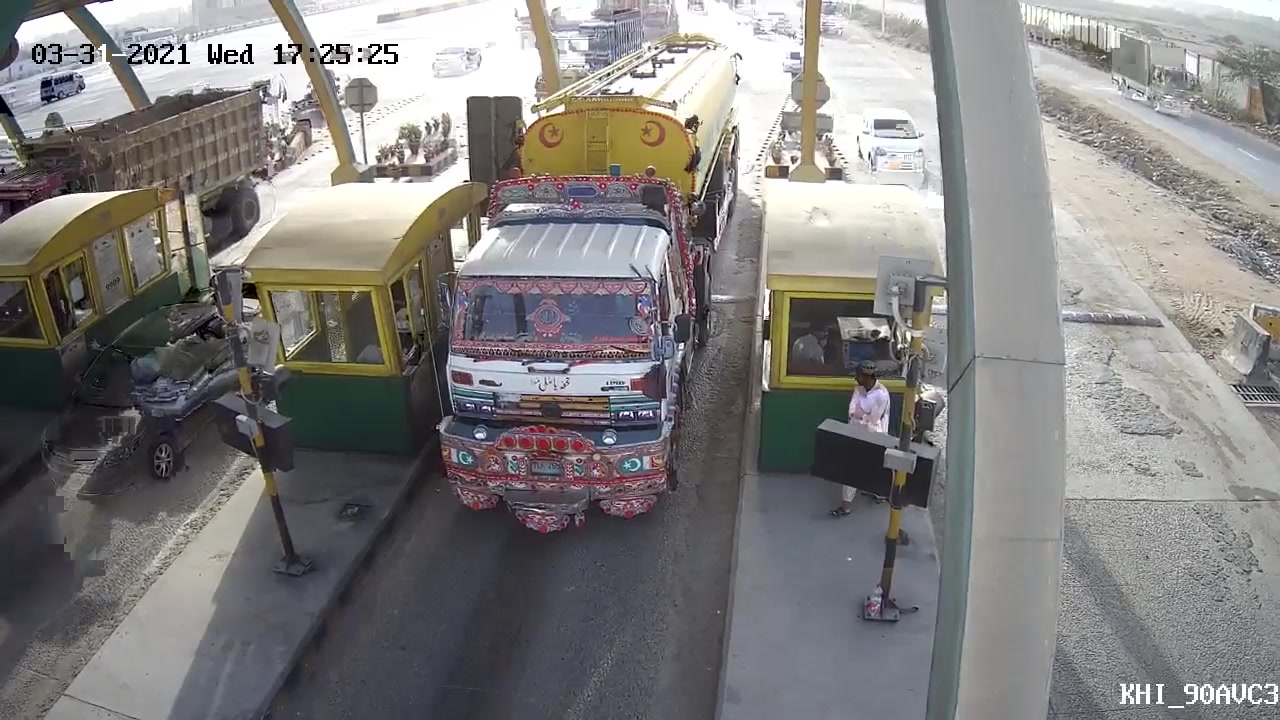F6: (438, 39, 748, 556)
